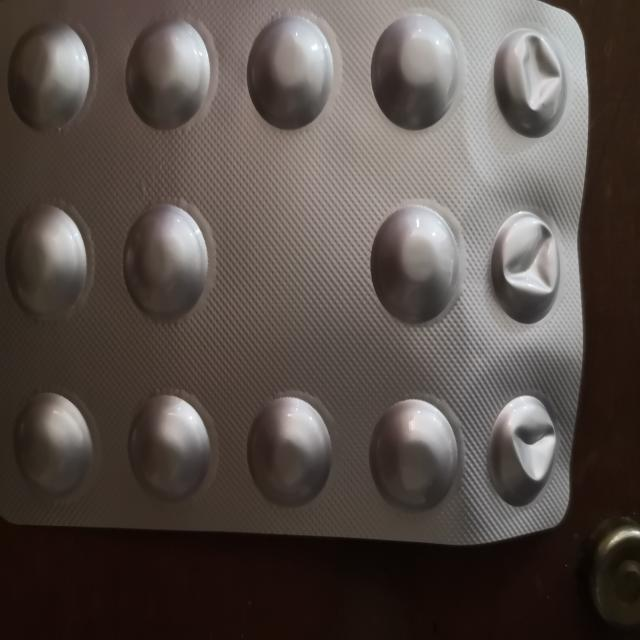Empty: (488, 19, 572, 140), (487, 206, 569, 326), (486, 387, 564, 510)
Pill: (120, 195, 215, 328), (369, 200, 466, 330), (2, 201, 95, 331), (366, 395, 465, 516), (369, 10, 463, 133), (122, 12, 216, 134), (245, 10, 339, 132), (241, 392, 337, 510), (123, 388, 218, 500), (7, 387, 98, 502), (4, 17, 93, 133)
